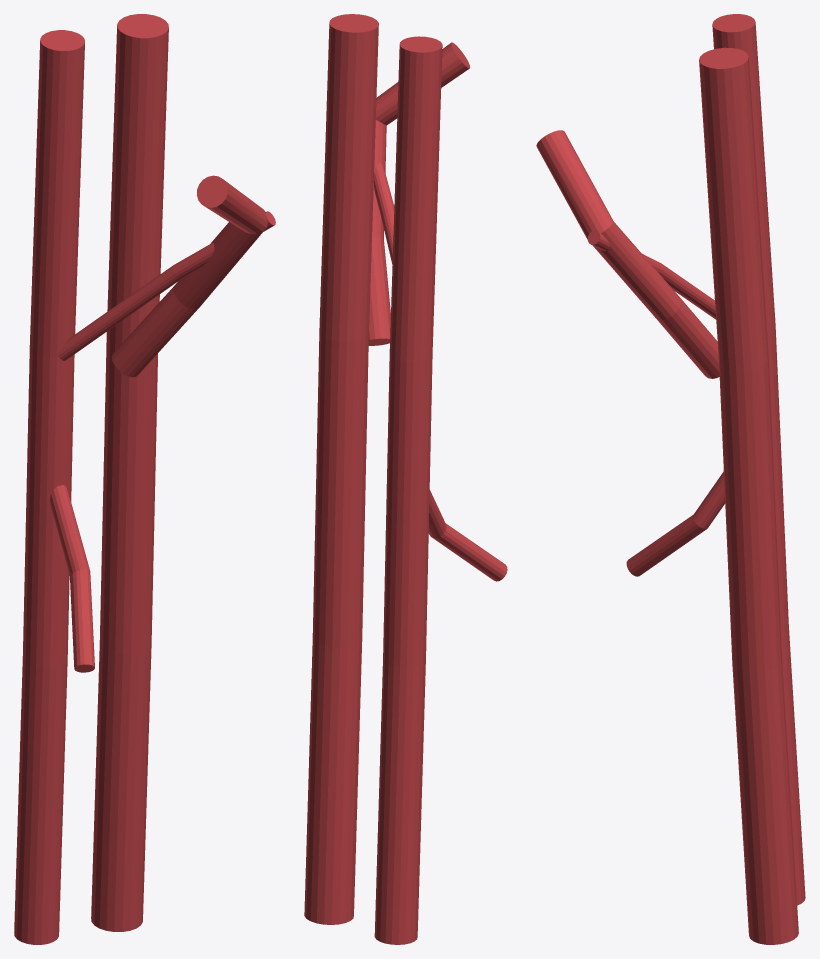
Rendered from major_vessels.glb.
3 views of the same model, side by side, from view 1: azimuth 30°, elevation 25°; view 2: azimuth 150°, elevation 25°; view 3: azimuth 270°, elevation 25° (orthographic). The views are drawn at different scales.
Visible parts, largest first — view 1: major_vessels; view 2: major_vessels; view 3: major_vessels.
Part boxes in pixels (bbox=[...]): major_vessels: bbox=[14, 14, 275, 944]; major_vessels: bbox=[304, 14, 507, 944]; major_vessels: bbox=[536, 14, 805, 944].
Size of the model in its own units: 0.0597 by 0.2909 by 0.0808.
